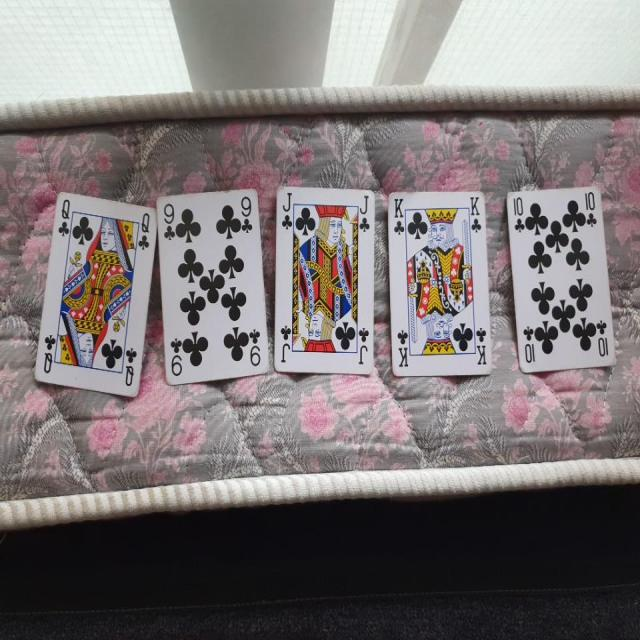10 Trefoils: (505, 184, 620, 369)
9 Trefoils: (154, 183, 271, 384)
J Trefoils: (272, 185, 377, 374)
K Trefoils: (385, 190, 493, 379)
Q Trefoils: (33, 189, 159, 400)
